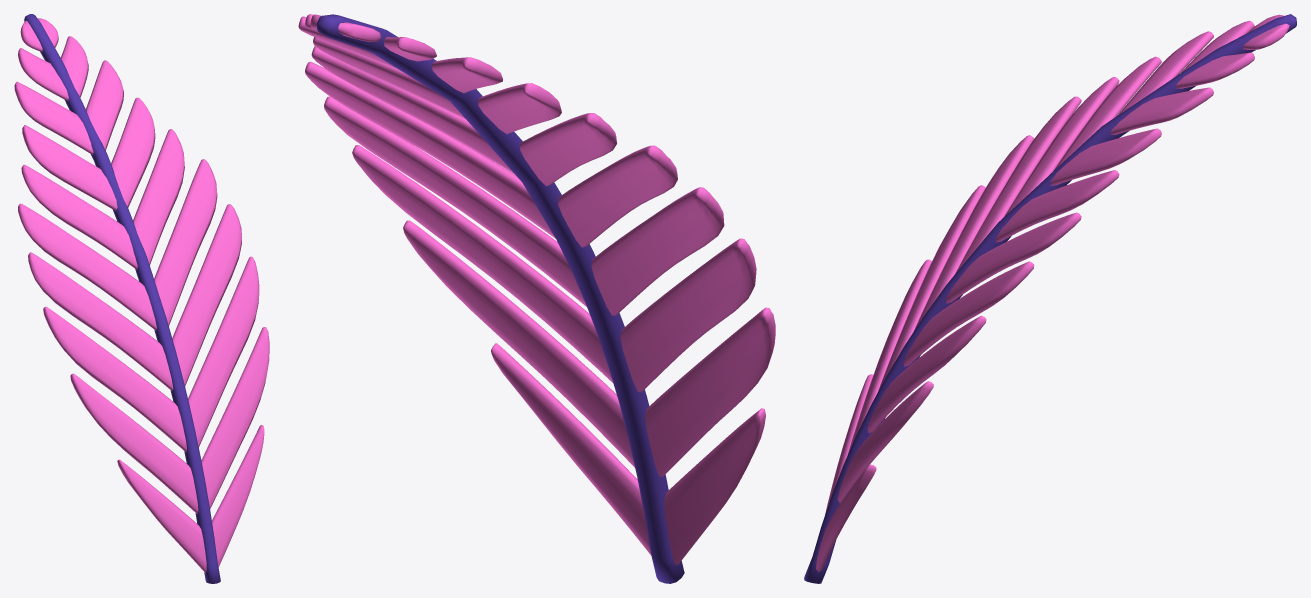
File: Purple_Leaf_s.fbx
3 renders of one model, left to right at view 1: azimuth 30°, elevation 25°; view 2: azimuth 150°, elevation 25°; view 3: azimuth 270°, elevation 25°, orthographic. The views are drawn at different scales.
Parts seen in each view (by area): view 1: Plane.014; view 2: Plane.014; view 3: Plane.014.
Part boxes in pixels (x1,y1,x2,y2): Plane.014: (14,14,269,583); Plane.014: (298,14,775,583); Plane.014: (804,14,1296,583).
Size of the model in its own units: 133 by 263 by 207.
